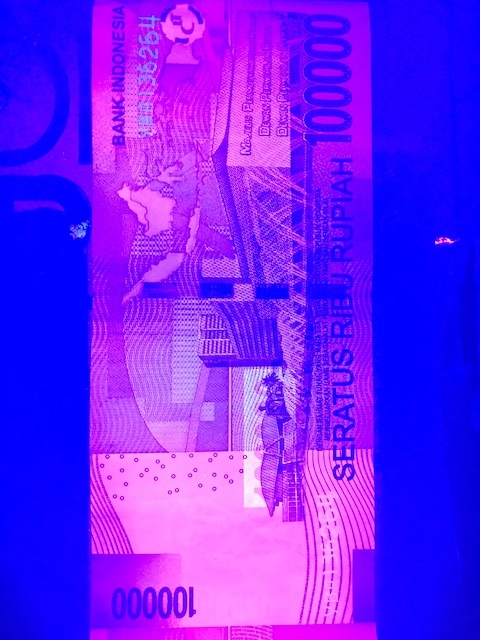100_RIBU_ASLI: (237, 363, 298, 508)
